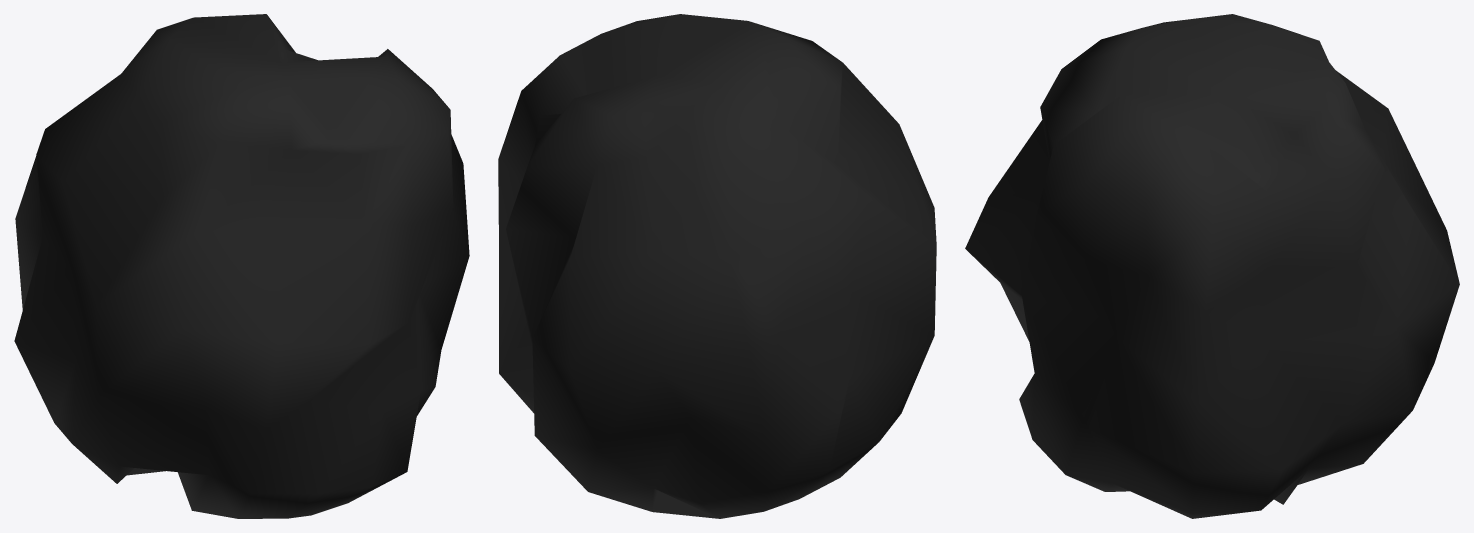
Rendered from _Plasma_02.fbx.
3 renders of one model, left to right at view 1: azimuth 30°, elevation 25°; view 2: azimuth 150°, elevation 25°; view 3: azimuth 270°, elevation 25°, orthographic.
Parts seen in each view (by area): view 1: Plasma_02; view 2: Plasma_02; view 3: Plasma_02.
Part boxes in pixels (bbox=[...]): Plasma_02: bbox=[14, 14, 469, 518]; Plasma_02: bbox=[498, 14, 936, 518]; Plasma_02: bbox=[965, 14, 1459, 518].
Bounding box in the file's own units: 49.16 × 50.83 × 52.15.
Materials: 1 (1 with a texture image).
